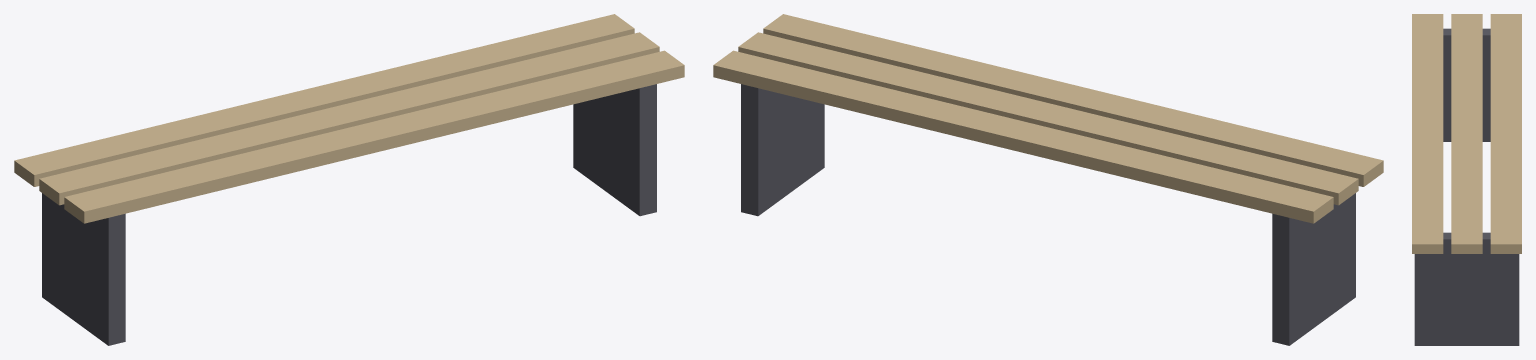
File: mdl_urban_bench_park_001.glb
The picture shows the model from 3 angles, left to right: view 1: azimuth 30°, elevation 25°; view 2: azimuth 150°, elevation 25°; view 3: azimuth 270°, elevation 25°; orthographic projection. The views are drawn at different scales.
Parts seen in each view (by area): view 1: m_madera_clara, m_carbon; view 2: m_madera_clara, m_carbon; view 3: m_madera_clara, m_carbon.
Part boxes in pixels (x1,y1,x2,y2): m_madera_clara: (14, 14, 684, 223); m_carbon: (42, 84, 656, 345); m_madera_clara: (713, 14, 1383, 223); m_carbon: (741, 84, 1355, 345); m_madera_clara: (1412, 14, 1521, 253); m_carbon: (1414, 28, 1519, 345).
Size of the model in its own units: 2.08 by 0.47 by 0.42.
